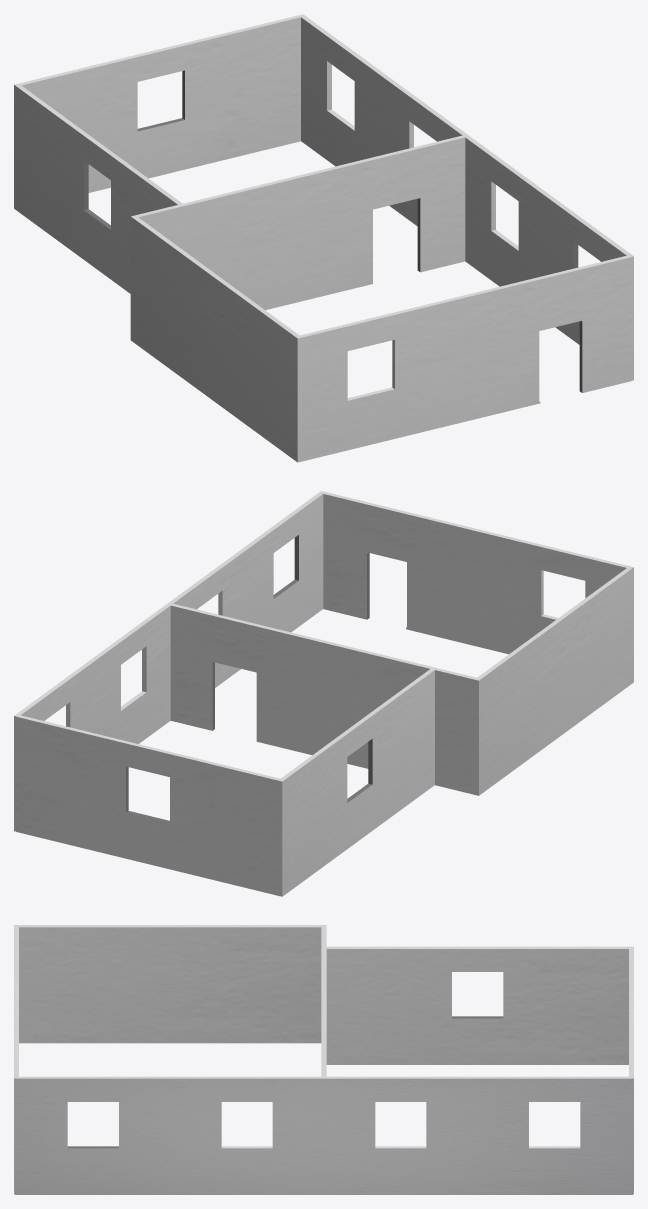
Rendered from paredes.obj.
3 renders of one model, top to bottom at view 1: azimuth 30°, elevation 25°; view 2: azimuth 150°, elevation 25°; view 3: azimuth 270°, elevation 25°, orthographic. The views are drawn at different scales.
Visible parts, largest first — view 1: pCube39; view 2: pCube39; view 3: pCube39.
Part boxes in pixels (left/top/right/bottom): pCube39: left=14, top=14, right=633, bottom=462; pCube39: left=14, top=491, right=633, bottom=896; pCube39: left=14, top=925, right=633, bottom=1194.
Bounding box in the file's own units: 14.2 × 5 × 24.2.
Materials: 2 (1 with a texture image).
